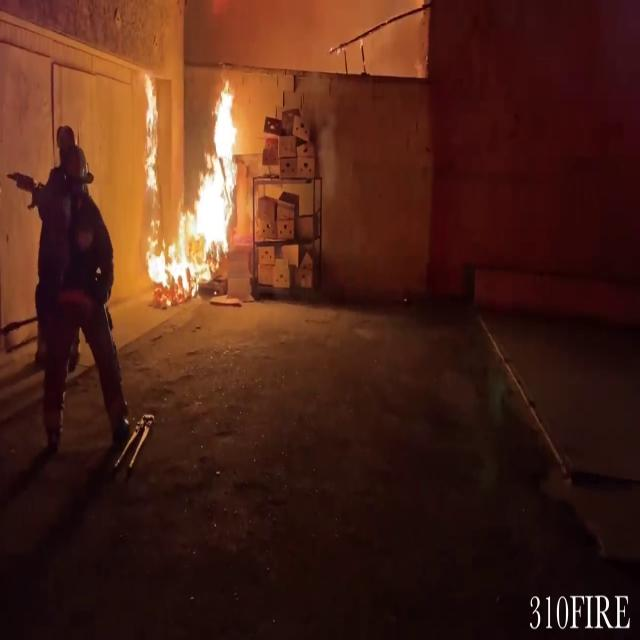Fire: (146, 76, 244, 296)
